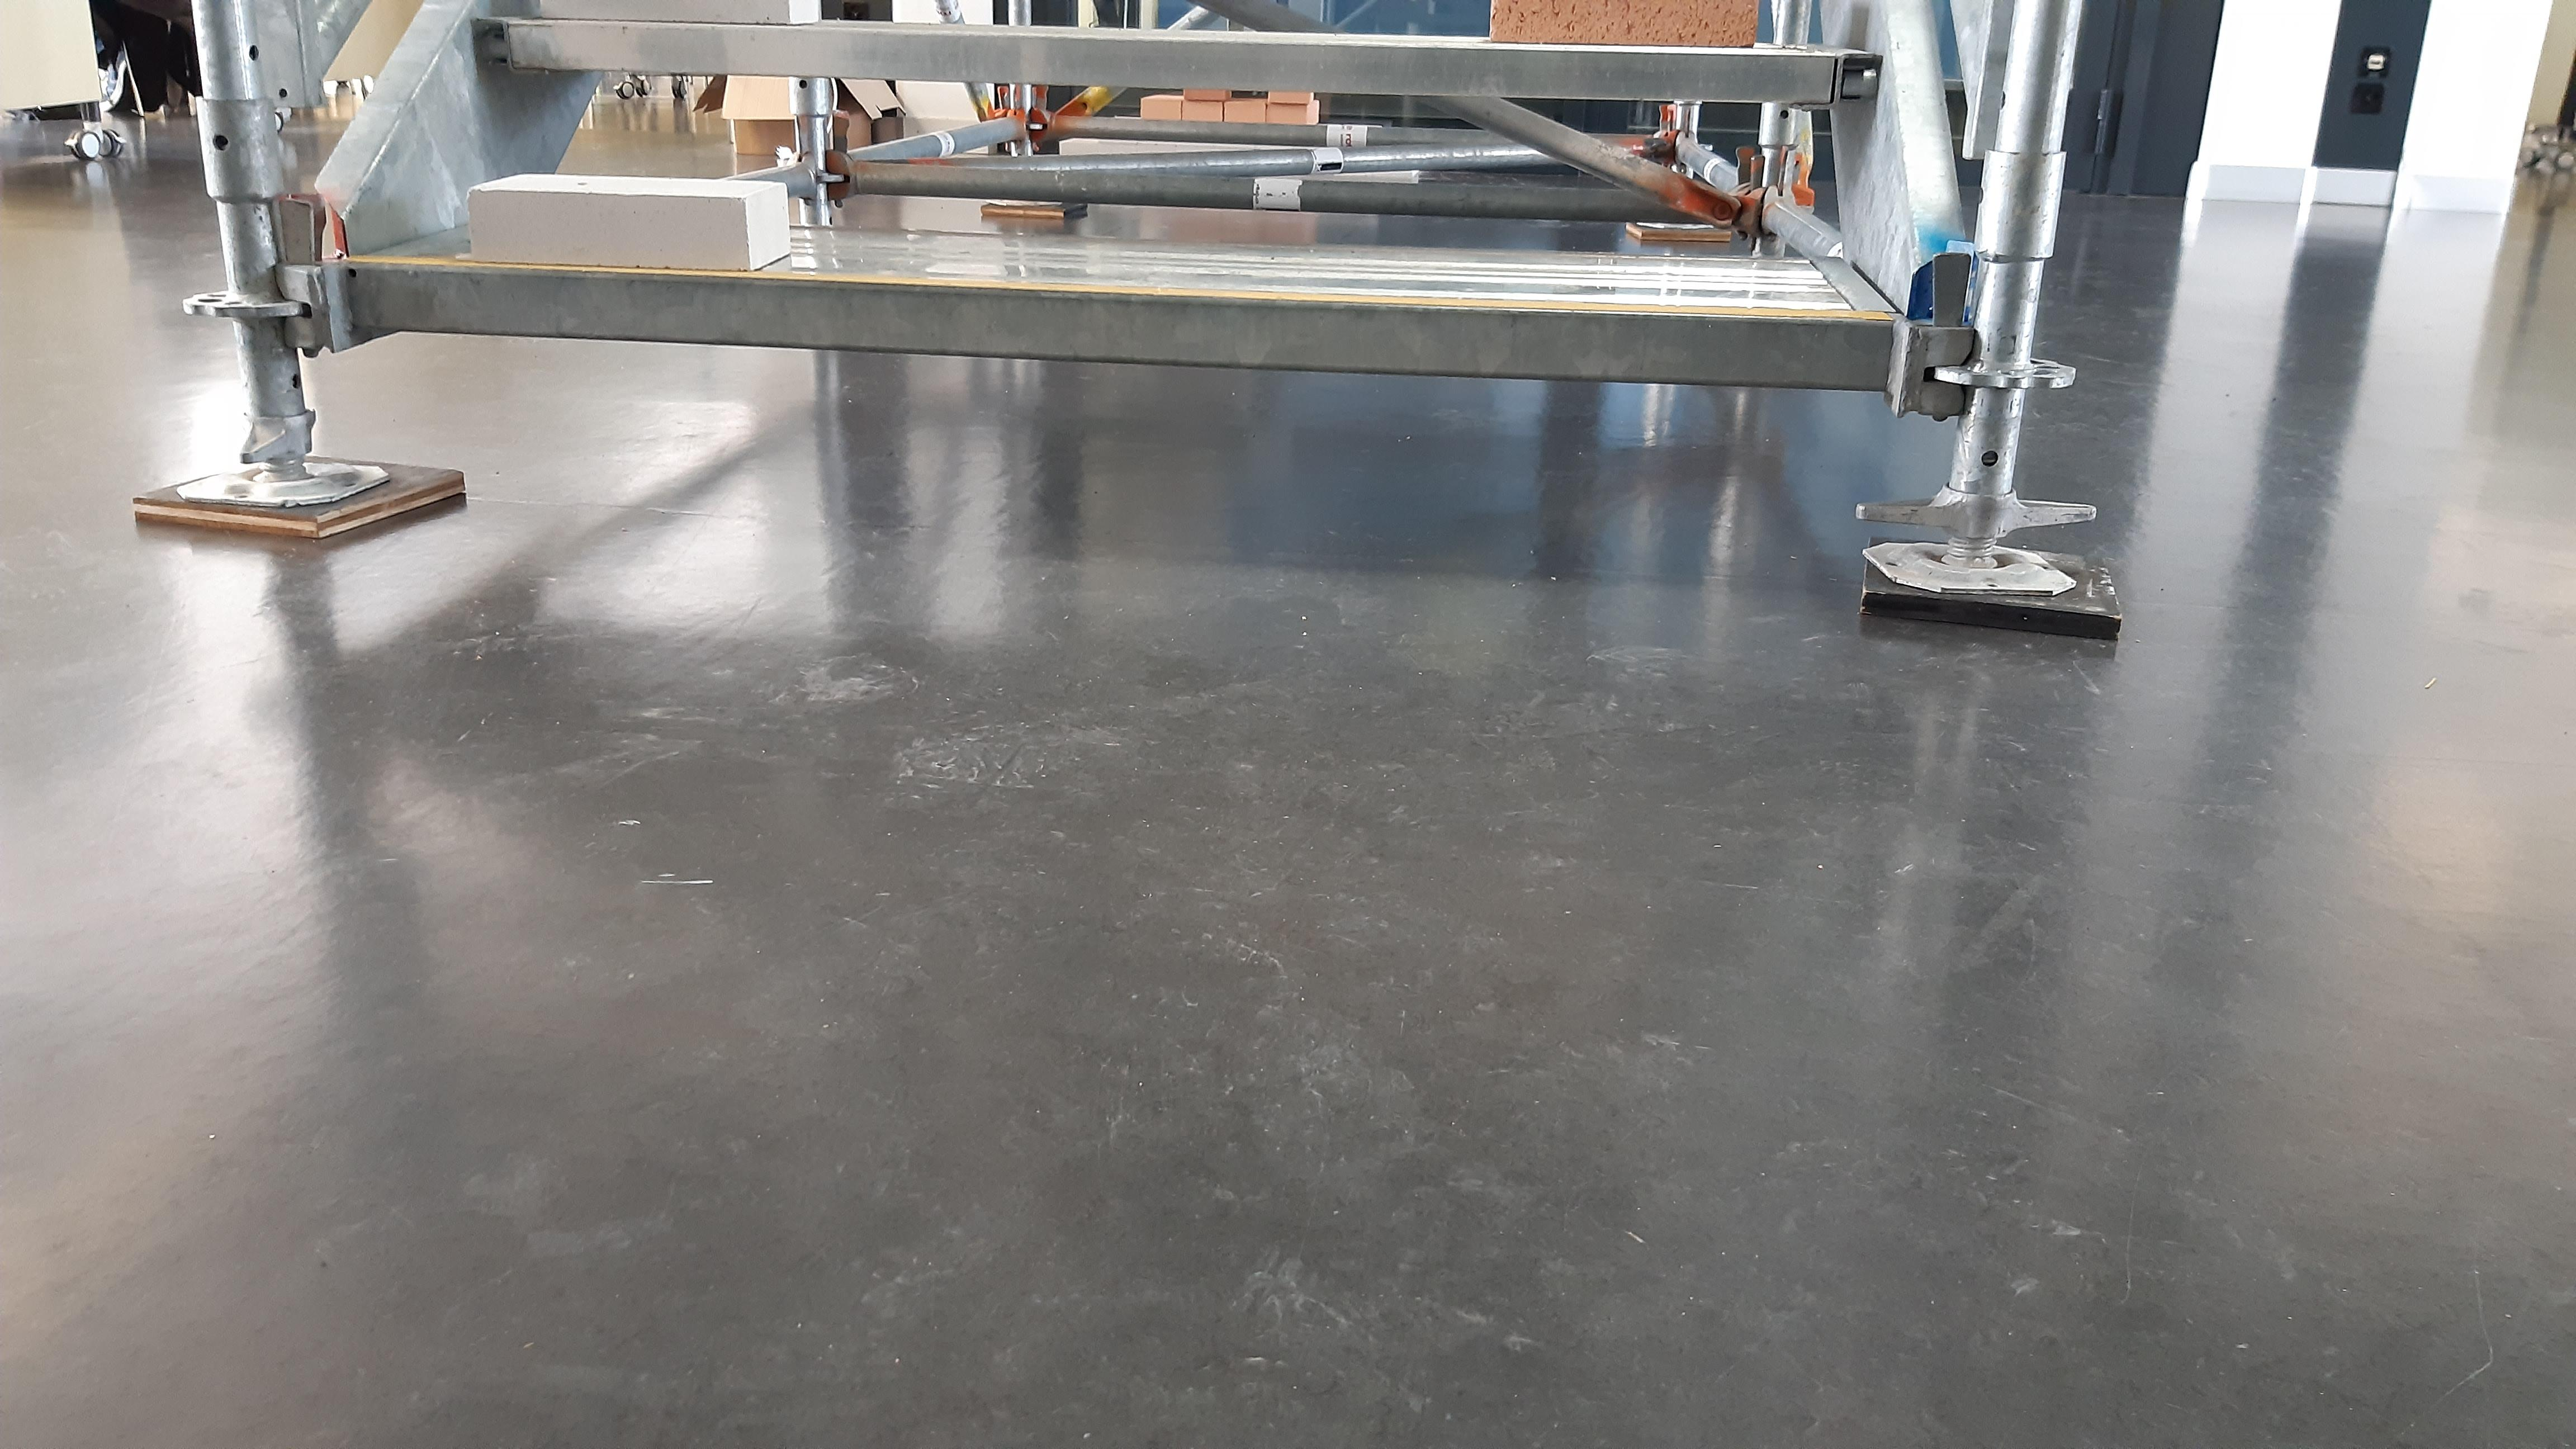brick: (469, 175, 789, 271)
edge: (338, 258, 1909, 430), (472, 18, 1879, 122)
stairs: (133, 7, 2120, 642)
